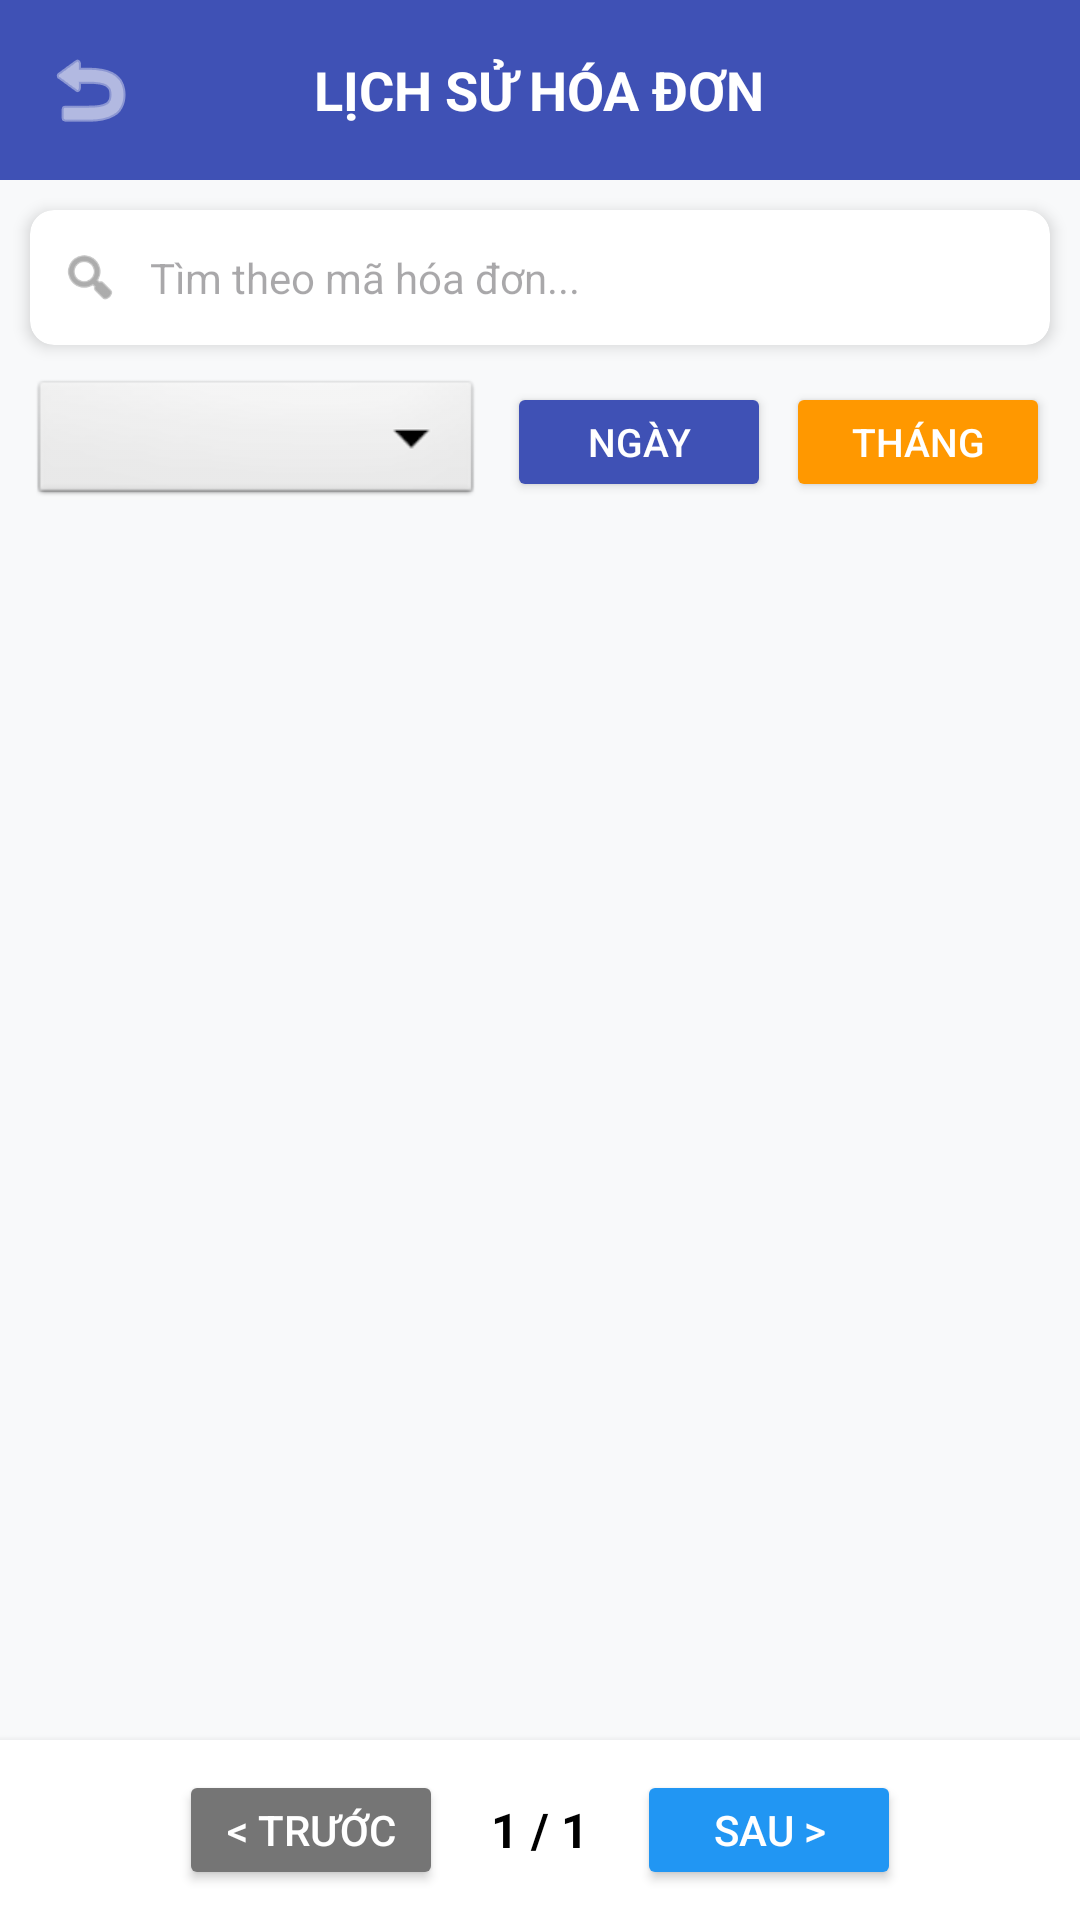

Icons on this 1080px x 1920px Android screen, each with the point to tap as (x,y):
revert: (91,90)
search: (90,277)
